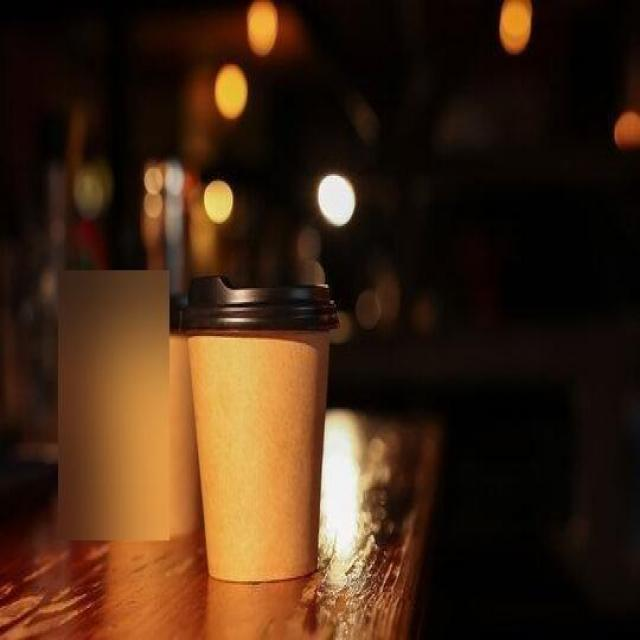cup-disposable: (182, 266, 342, 588)
